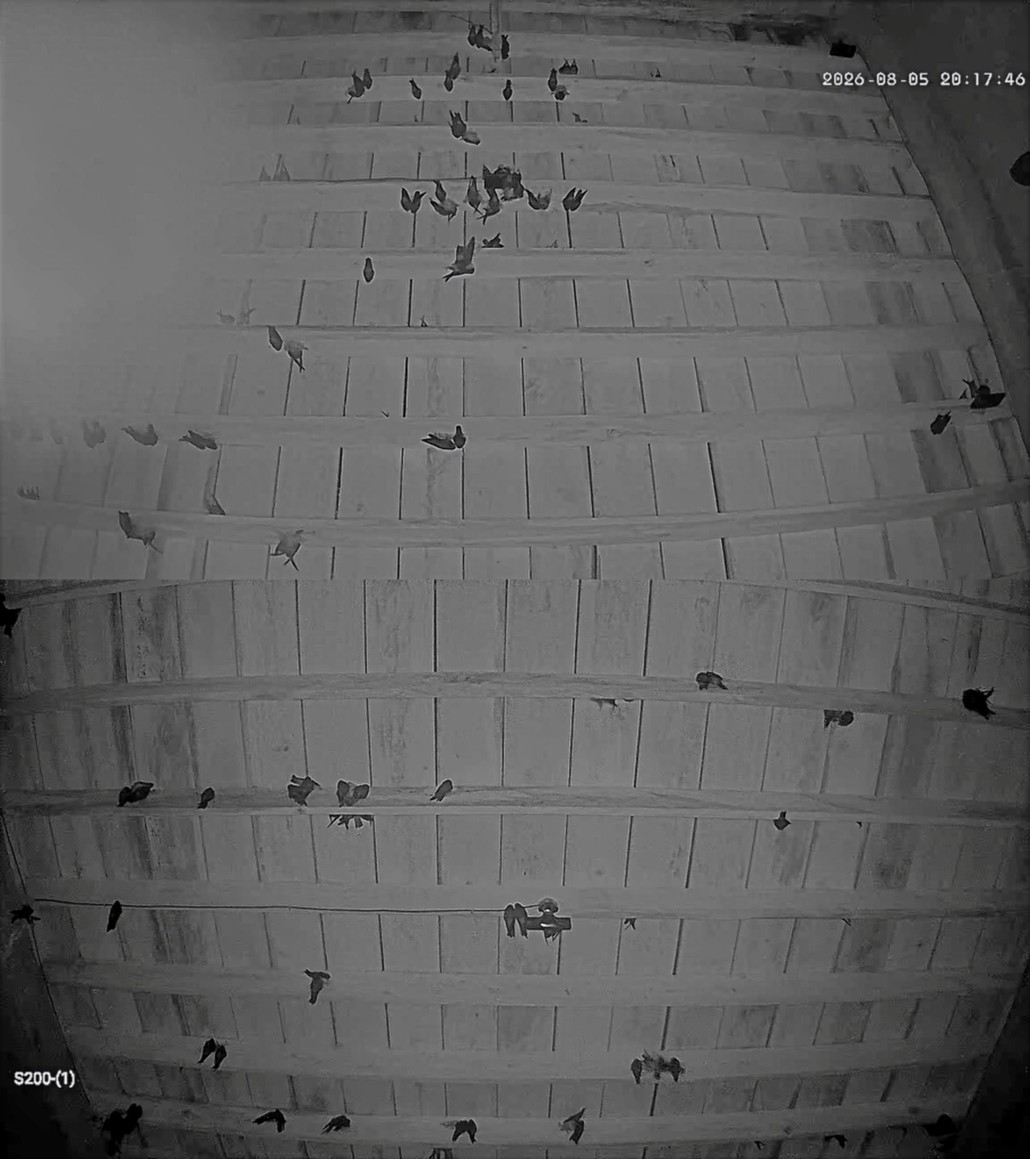swallow bird: (118, 511, 158, 550), (271, 531, 302, 571), (962, 688, 994, 719), (287, 775, 320, 805), (0, 593, 21, 636), (118, 781, 153, 806), (305, 970, 330, 1004), (971, 385, 1005, 410), (122, 423, 158, 446), (253, 1108, 286, 1133), (179, 429, 218, 450), (924, 1114, 958, 1138), (285, 340, 308, 372), (481, 190, 501, 224), (444, 52, 461, 92), (82, 420, 106, 448), (421, 433, 456, 452), (10, 904, 40, 926), (559, 1108, 585, 1132), (452, 1119, 477, 1143), (453, 238, 475, 265), (696, 671, 727, 690), (123, 1103, 142, 1134), (429, 200, 457, 221), (824, 709, 854, 728), (430, 778, 453, 802), (322, 1114, 350, 1133), (272, 155, 291, 182), (106, 900, 122, 932), (443, 265, 475, 281), (664, 1057, 684, 1082), (198, 1038, 217, 1064), (829, 40, 856, 58), (347, 71, 365, 98), (450, 111, 467, 139), (467, 177, 481, 210), (930, 411, 950, 434), (336, 779, 353, 806), (568, 189, 586, 214), (515, 903, 528, 937), (204, 494, 225, 515), (560, 186, 575, 215), (267, 326, 283, 351), (503, 905, 515, 938), (197, 787, 215, 809), (351, 783, 370, 803), (773, 810, 791, 831), (213, 1043, 227, 1070), (570, 1118, 584, 1144), (236, 307, 255, 326), (537, 897, 558, 914), (453, 424, 467, 449), (461, 127, 480, 145), (412, 190, 425, 216), (824, 1134, 846, 1149), (481, 233, 503, 248), (630, 1057, 642, 1084), (17, 486, 40, 500), (591, 698, 617, 710), (363, 257, 375, 283), (558, 60, 578, 75), (435, 180, 448, 203), (409, 78, 422, 100), (355, 814, 374, 829), (547, 68, 558, 93), (515, 172, 525, 199), (527, 190, 541, 209), (540, 189, 552, 211), (401, 188, 412, 212), (217, 311, 235, 325), (362, 67, 373, 89), (553, 85, 568, 101), (340, 814, 355, 830), (501, 34, 510, 60), (502, 78, 512, 101), (544, 929, 560, 943), (258, 165, 271, 181), (327, 814, 341, 828), (623, 916, 636, 930), (572, 111, 587, 123), (753, 1140, 765, 1150), (840, 917, 852, 927), (420, 315, 428, 328), (380, 411, 390, 417), (855, 821, 863, 828)
